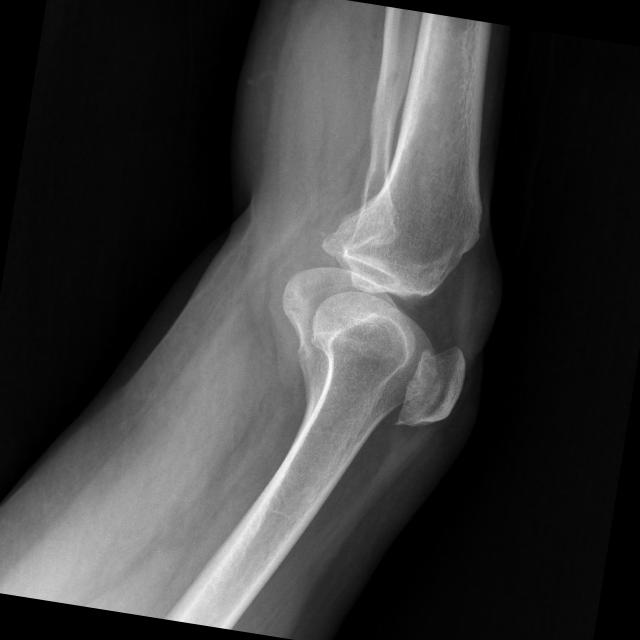Knee: (264, 192, 494, 438)
